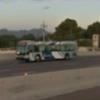buses: (17, 41, 78, 62)
